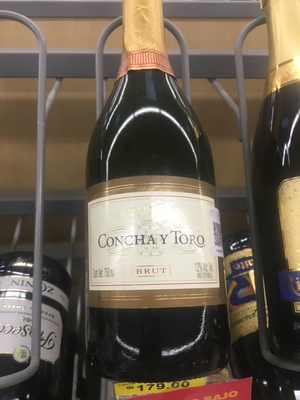brut: (82, 9, 222, 359)
